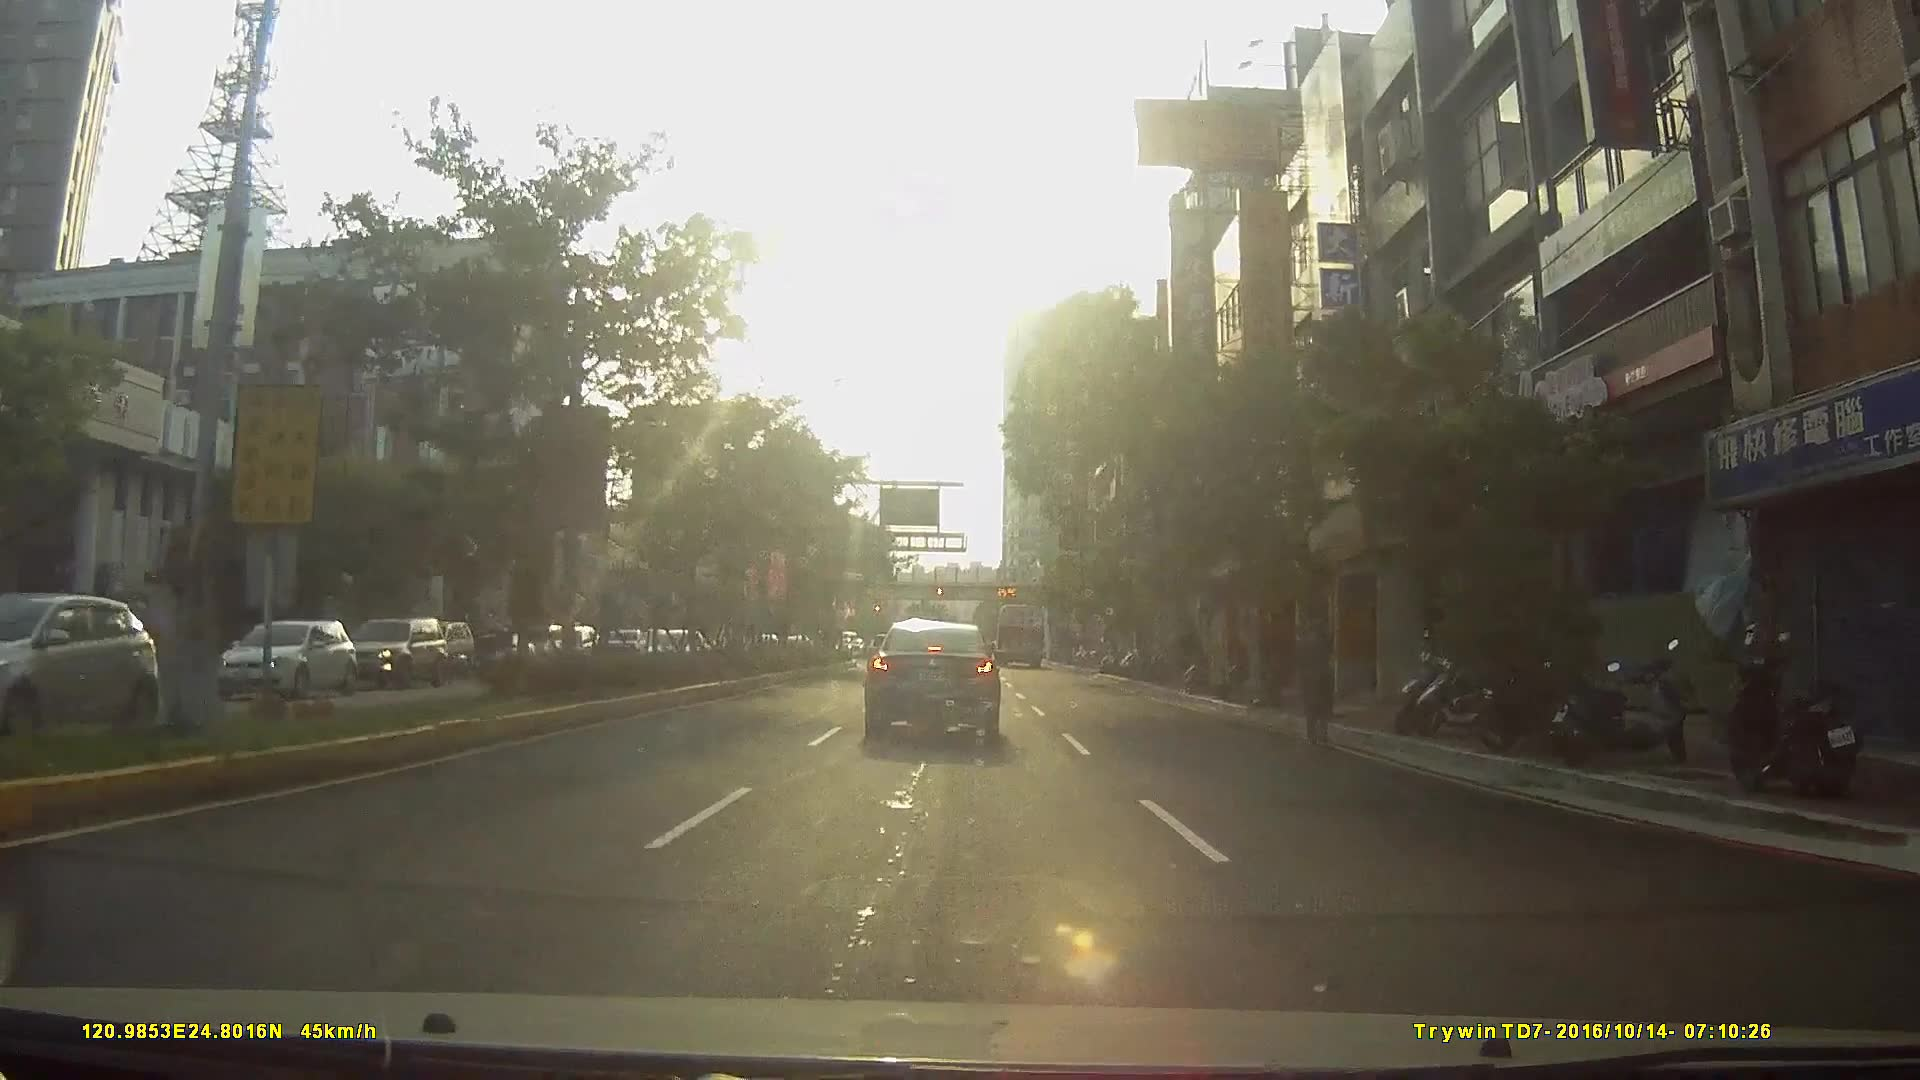pedestrian: (1293, 618, 1342, 748)
vehicle: (1, 591, 181, 742), (862, 618, 1000, 736), (200, 617, 371, 711), (326, 619, 456, 699), (405, 617, 473, 676), (995, 599, 1046, 666)
